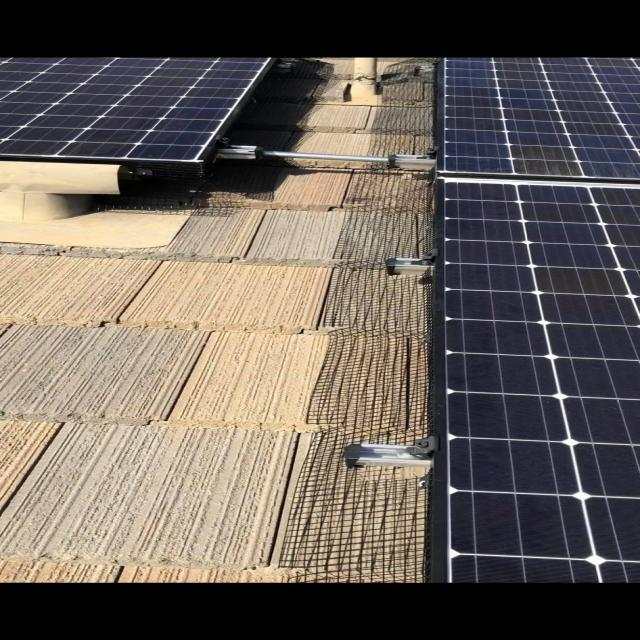clean-solar-panel: (430, 58, 639, 582)
